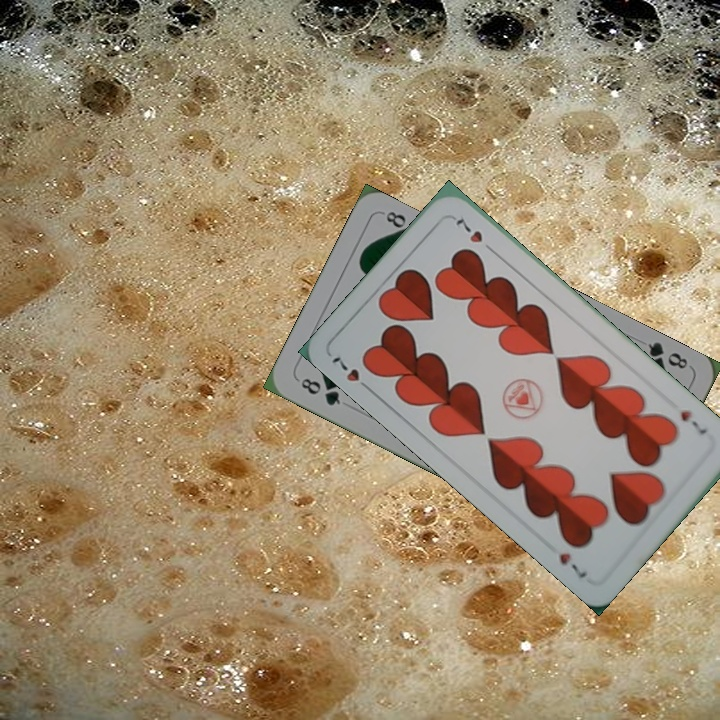G8: (294, 374, 344, 408), (643, 338, 691, 373)
H7: (328, 352, 375, 395), (676, 406, 710, 438)
